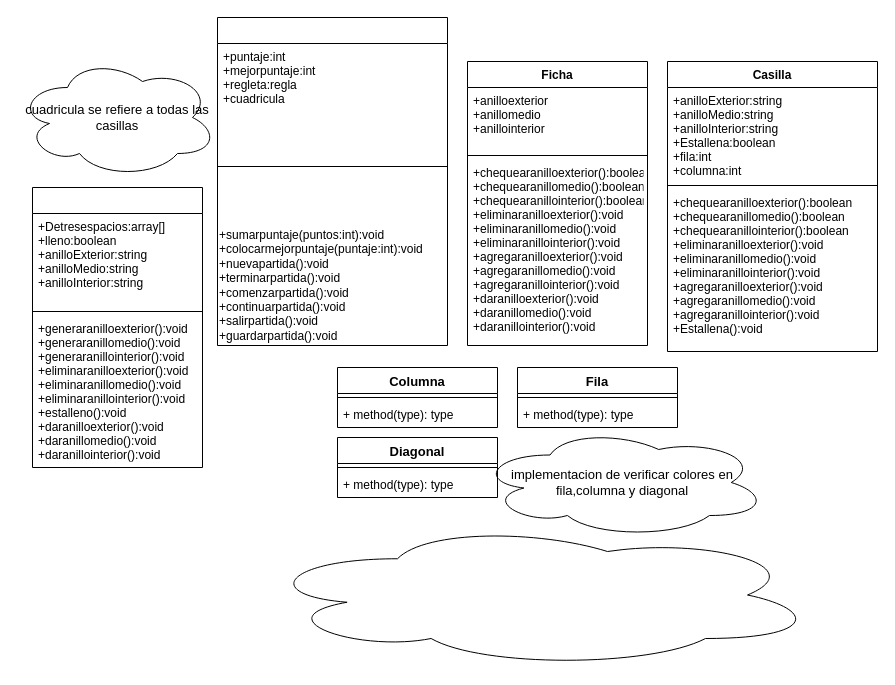
Some shapes in this 895 by 685 pixel diagram are drawn without their labels. The box of each missing label's shape, as (x1, y1, x2, y2) in pixels:
Regla: (32, 186, 202, 468)
revisar el caso en que los tres anillos sean del mismo en la casilla: (256, 522, 818, 668)
Tablero: (216, 16, 448, 346)
